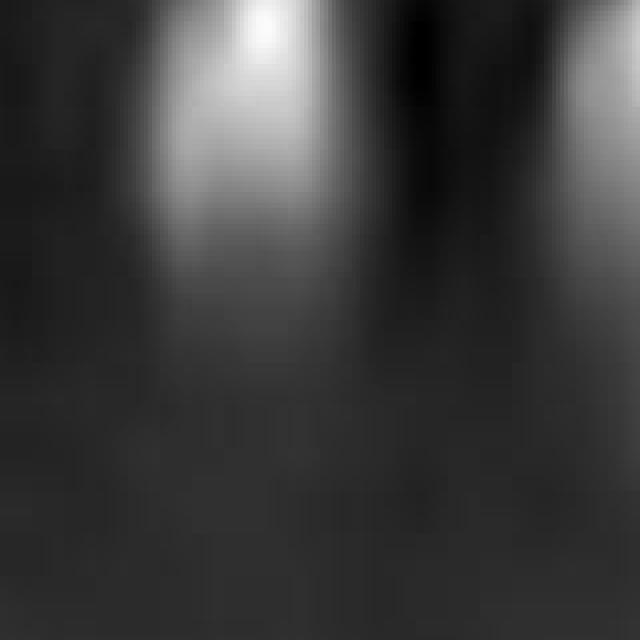person: (153, 1, 361, 348), (505, 1, 640, 433)
